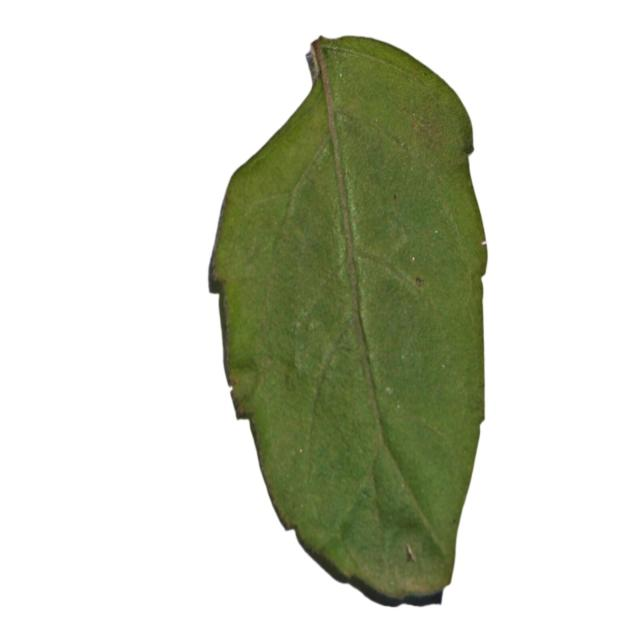tulsi: (206, 31, 488, 606)
